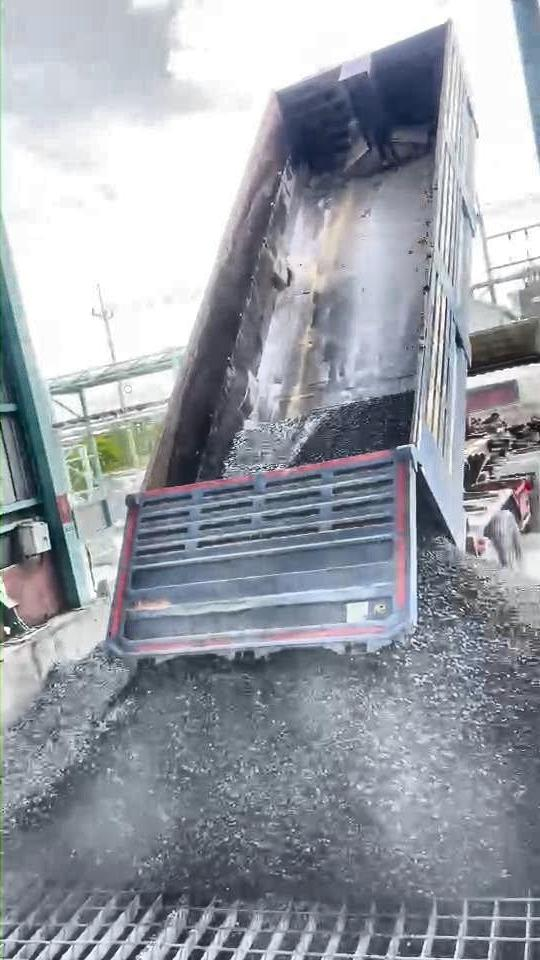gravel: (5, 541, 540, 903), (225, 392, 413, 475)
